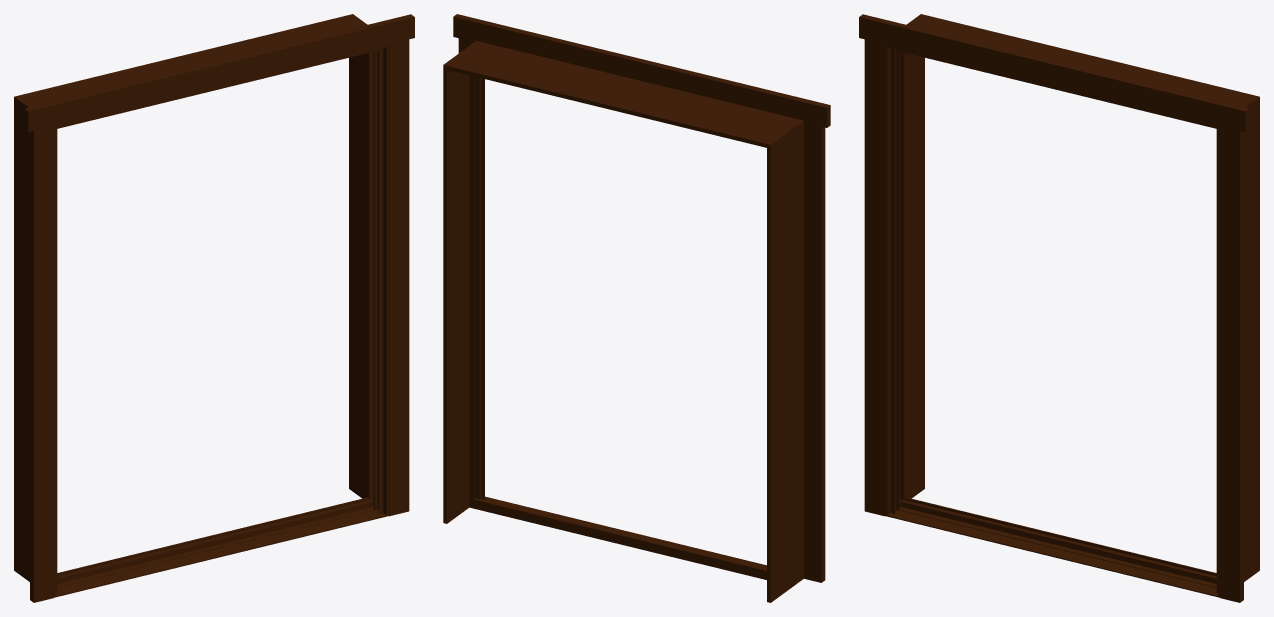
The model's file is doorframe.glb.
3 views of the same model, side by side, from view 1: azimuth 30°, elevation 25°; view 2: azimuth 150°, elevation 25°; view 3: azimuth 330°, elevation 25° (orthographic). The views are drawn at different scales.
Visible parts, largest first — view 1: doorframe; view 2: doorframe; view 3: doorframe.
Boxes of the visible parts, x1=… form: doorframe: x1=14, y1=14, x2=414, y2=602; doorframe: x1=443, y1=14, x2=830, y2=602; doorframe: x1=859, y1=14, x2=1259, y2=602.
Size of the model in its own units: 1.72 by 2.1 by 0.2948.
